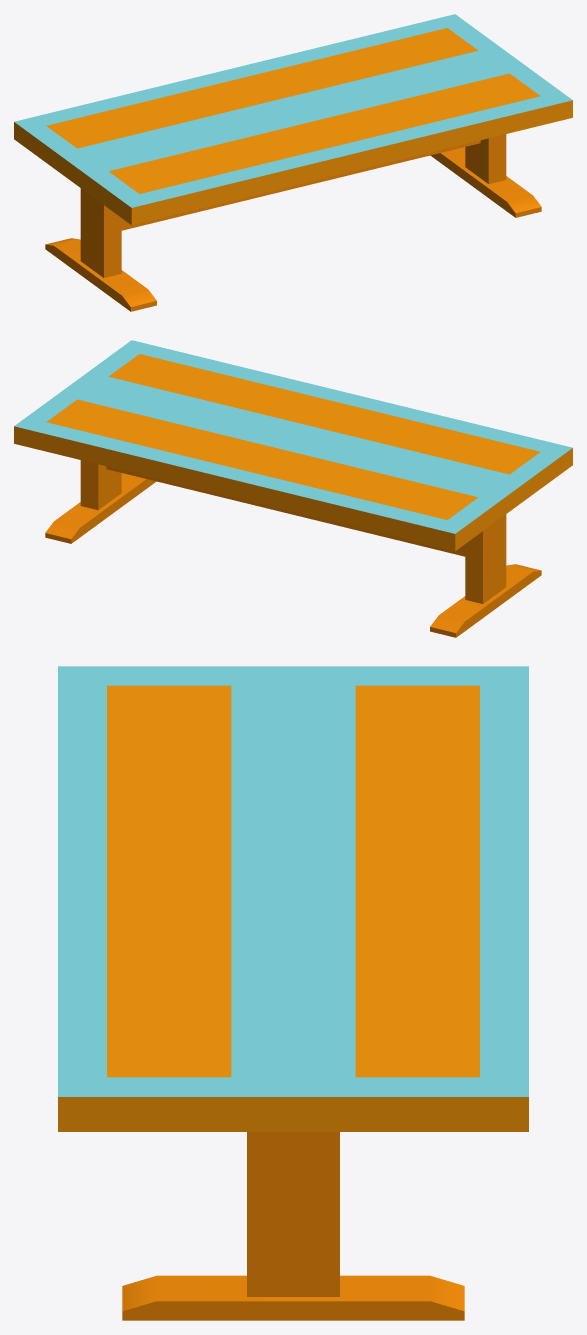
Rendered from Big_Table_lv3.fbx.
3 renders of one model, top to bottom at view 1: azimuth 30°, elevation 25°; view 2: azimuth 150°, elevation 25°; view 3: azimuth 270°, elevation 25°, orthographic. The views are drawn at different scales.
Parts seen in each view (by area): view 1: Big_Table_lv3; view 2: Big_Table_lv3; view 3: Big_Table_lv3.
Boxes of the visible parts, x1,y1,x2,y2 form: Big_Table_lv3: (14,14,572,311); Big_Table_lv3: (14,340,572,637); Big_Table_lv3: (58,666,528,1320).
Size of the model in its own units: 440 by 114 by 203.
